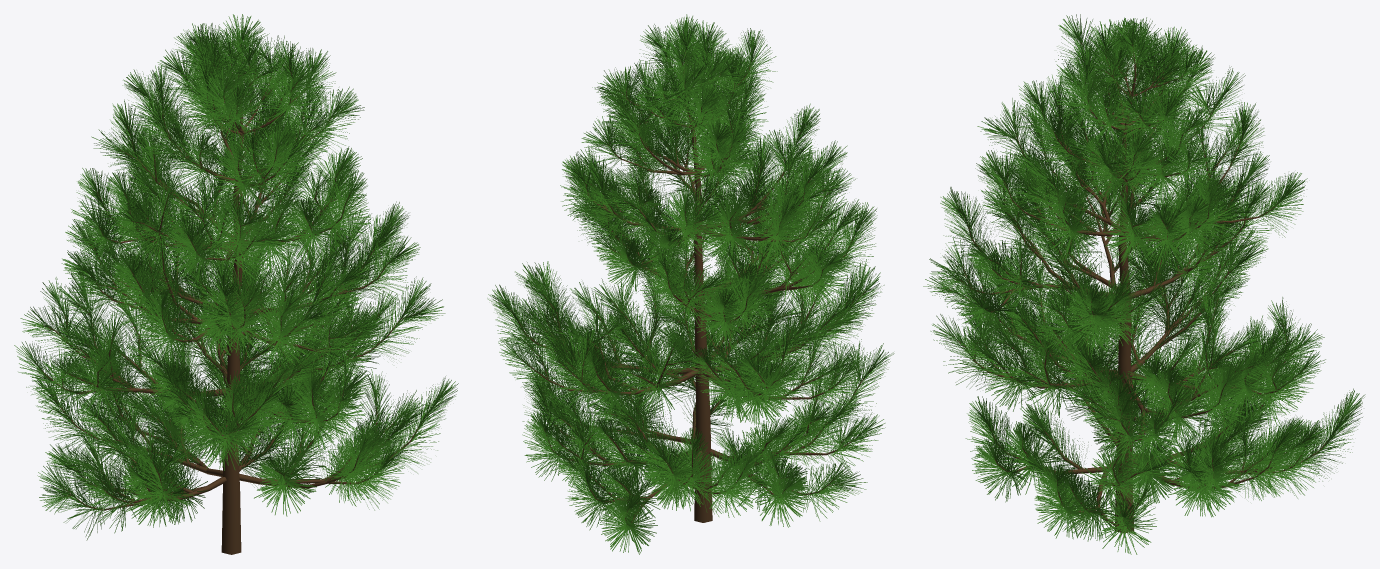
File: sapin-2.glb
3 views of the same model, side by side, from view 1: azimuth 30°, elevation 25°; view 2: azimuth 150°, elevation 25°; view 3: azimuth 270°, elevation 25° (orthographic). The views are drawn at different scales.
Parts seen in each view (by area): view 1: leaves, tree; view 2: leaves, tree; view 3: leaves, tree.
Boxes of the visible parts, x1,y1,x2,y2 form: leaves: [14, 14, 458, 540]; tree: [36, 44, 427, 554]; leaves: [487, 14, 894, 554]; tree: [511, 52, 872, 524]; leaves: [923, 14, 1365, 554]; tree: [947, 42, 1328, 533].
Bounding box in the file's own units: 2.81 × 3.59 × 2.79.
